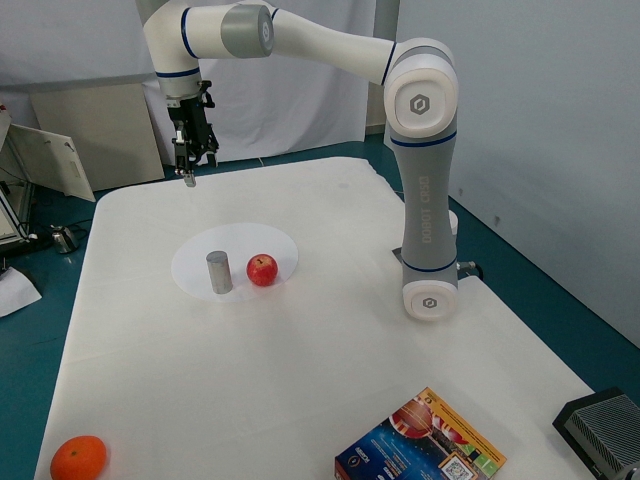apple: (240, 241, 284, 291)
metalROD: (204, 245, 234, 298)
